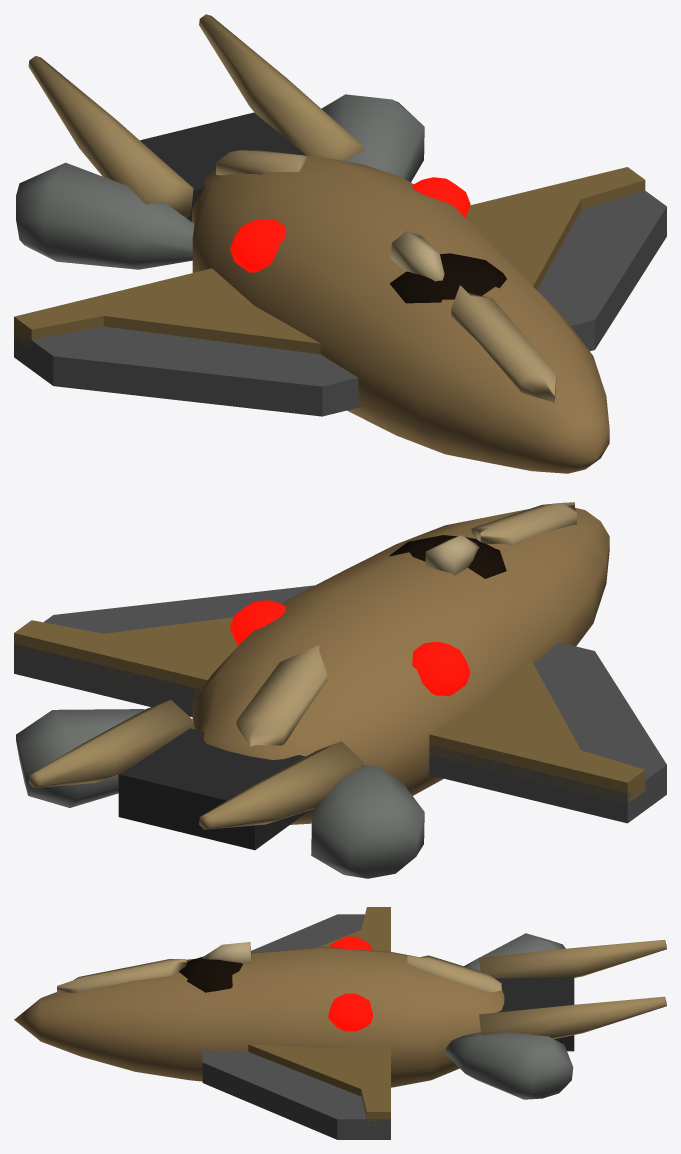
The model's file is newshf-47-f2.glb.
The picture shows the model from 3 angles, top to bottom: view 1: azimuth 30°, elevation 25°; view 2: azimuth 150°, elevation 25°; view 3: azimuth 270°, elevation 25°; orthographic projection. The views are drawn at different scales.
Parts seen in each view (by area): view 1: newshf-47; view 2: newshf-47; view 3: newshf-47.
Part boxes in pixels (left/top/right/bottom): newshf-47: left=14, top=14, right=666, bottom=473; newshf-47: left=14, top=502, right=666, bottom=878; newshf-47: left=14, top=907, right=666, bottom=1139.
Size of the model in its own units: 1.5 by 0.4559 by 2.02.
